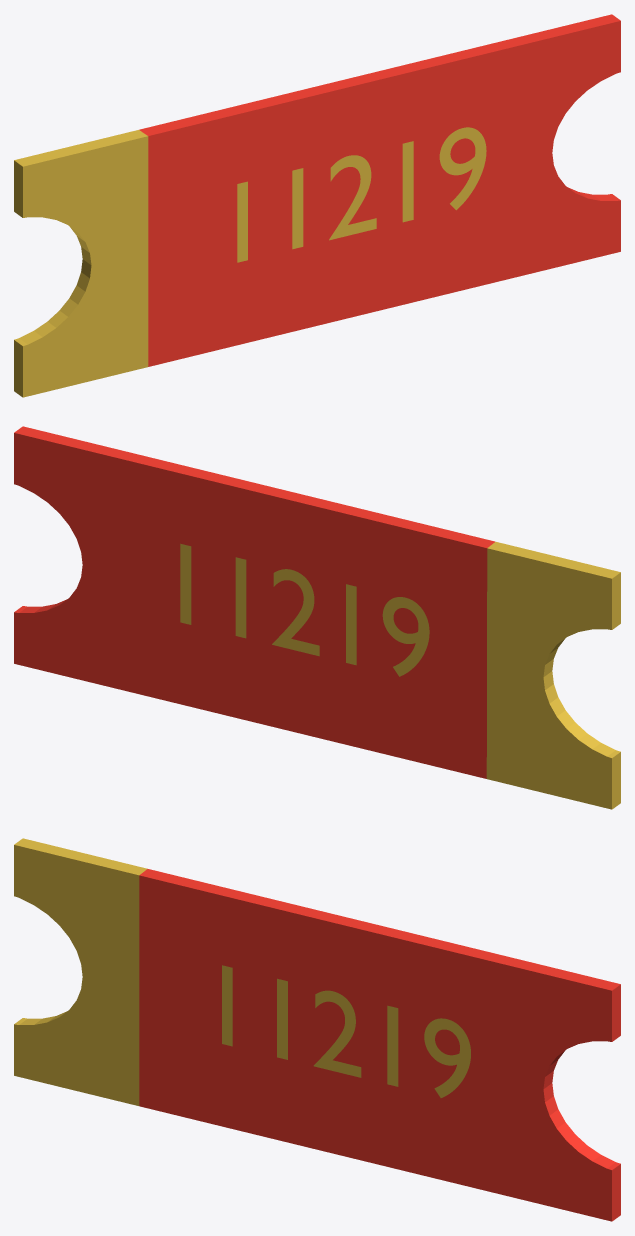
Rendered from foodcoupon3.glb.
3 renders of one model, top to bottom at view 1: azimuth 30°, elevation 25°; view 2: azimuth 150°, elevation 25°; view 3: azimuth 330°, elevation 25°, orthographic.
Visible parts, largest first — view 1: Text; view 2: Text; view 3: Text.
Part boxes in pixels (x1=…): Text: x1=14, y1=14, x2=620, y2=397; Text: x1=14, y1=426, x2=620, y2=809; Text: x1=14, y1=838, x2=620, y2=1221.
Size of the model in its own units: 5.42 by 2 by 0.2516.
